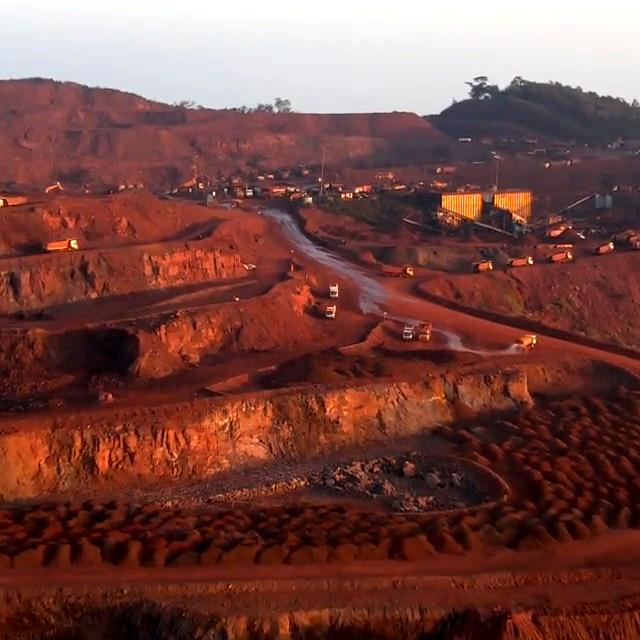Dumper truck: (49, 239, 79, 252), (386, 264, 413, 276), (547, 251, 572, 262), (509, 255, 534, 266)
